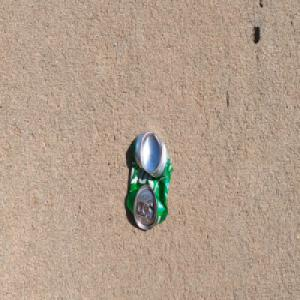SodaCan: (125, 129, 173, 232)
